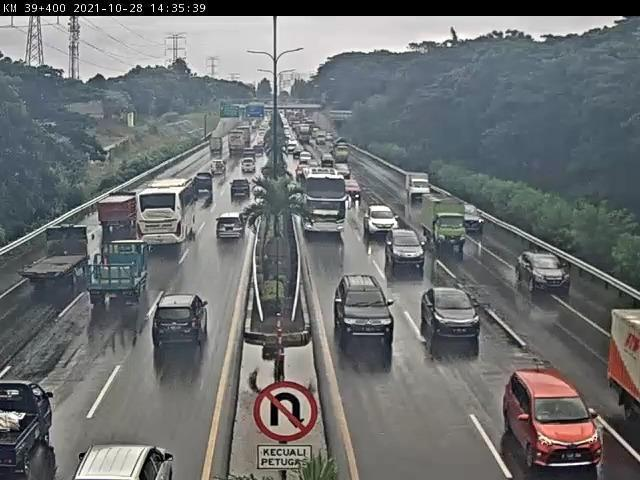bus: (137, 181, 199, 246), (302, 170, 350, 237)
car: (504, 367, 603, 469), (1, 381, 53, 478), (332, 275, 395, 341), (77, 446, 178, 480), (421, 287, 481, 340), (153, 294, 209, 350), (515, 250, 572, 294), (386, 229, 425, 266), (218, 214, 249, 244), (365, 208, 398, 235), (406, 174, 430, 201), (463, 204, 484, 232), (230, 180, 253, 200), (209, 161, 226, 179), (345, 181, 362, 198), (241, 158, 258, 174), (337, 163, 350, 175), (300, 154, 314, 165)
truck: (21, 226, 93, 286), (87, 241, 149, 305), (609, 307, 640, 420), (421, 195, 467, 249), (98, 193, 138, 233), (228, 132, 250, 156), (194, 173, 212, 195), (333, 139, 350, 160), (209, 141, 223, 158)
